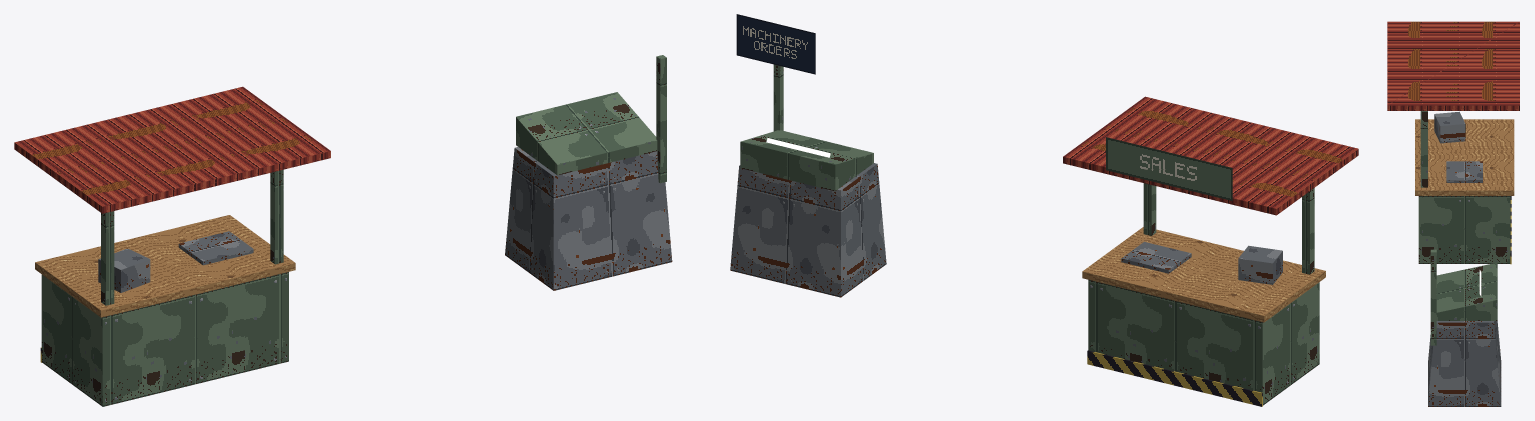
File: buildings__sales_booth_and_order_kiosk.glb
The picture shows the model from 3 angles, left to right: view 1: azimuth 30°, elevation 25°; view 2: azimuth 150°, elevation 25°; view 3: azimuth 270°, elevation 25°; orthographic projection. The views are drawn at different scales.
Visible parts, largest first — view 1: _MeshInstance3D_227, _MeshInstance3D_230, _MeshInstance3D_229, _MeshInstance3D_226; view 2: _MeshInstance3D_227, _MeshInstance3D_229, _MeshInstance3D_230, _MeshInstance3D_226, _MeshInstance3D_223, _MeshInstance3D_224, _MeshInstance3D_228; view 3: _MeshInstance3D_230, _MeshInstance3D_227, _MeshInstance3D_229, _MeshInstance3D_226, _MeshInstance3D_228.
Part boxes in pixels (x1,y1,x2,y2): _MeshInstance3D_227: [41, 55, 666, 406]; _MeshInstance3D_230: [14, 86, 330, 213]; _MeshInstance3D_229: [98, 147, 672, 292]; _MeshInstance3D_226: [35, 215, 295, 317]; _MeshInstance3D_227: [740, 64, 1319, 405]; _MeshInstance3D_229: [730, 163, 1282, 297]; _MeshInstance3D_230: [1063, 96, 1358, 215]; _MeshInstance3D_226: [1082, 227, 1325, 322]; _MeshInstance3D_223: [1106, 137, 1232, 200]; _MeshInstance3D_224: [736, 14, 815, 74]; _MeshInstance3D_228: [1087, 350, 1262, 406]; _MeshInstance3D_230: [1387, 21, 1519, 110]; _MeshInstance3D_227: [1418, 111, 1510, 345]; _MeshInstance3D_229: [1428, 111, 1501, 406]; _MeshInstance3D_226: [1415, 119, 1514, 195]; _MeshInstance3D_228: [1510, 196, 1511, 264].
Size of the model in its own units: 7.47 by 2.86 by 1.81.
Materials: 8 (7 with a texture image).
